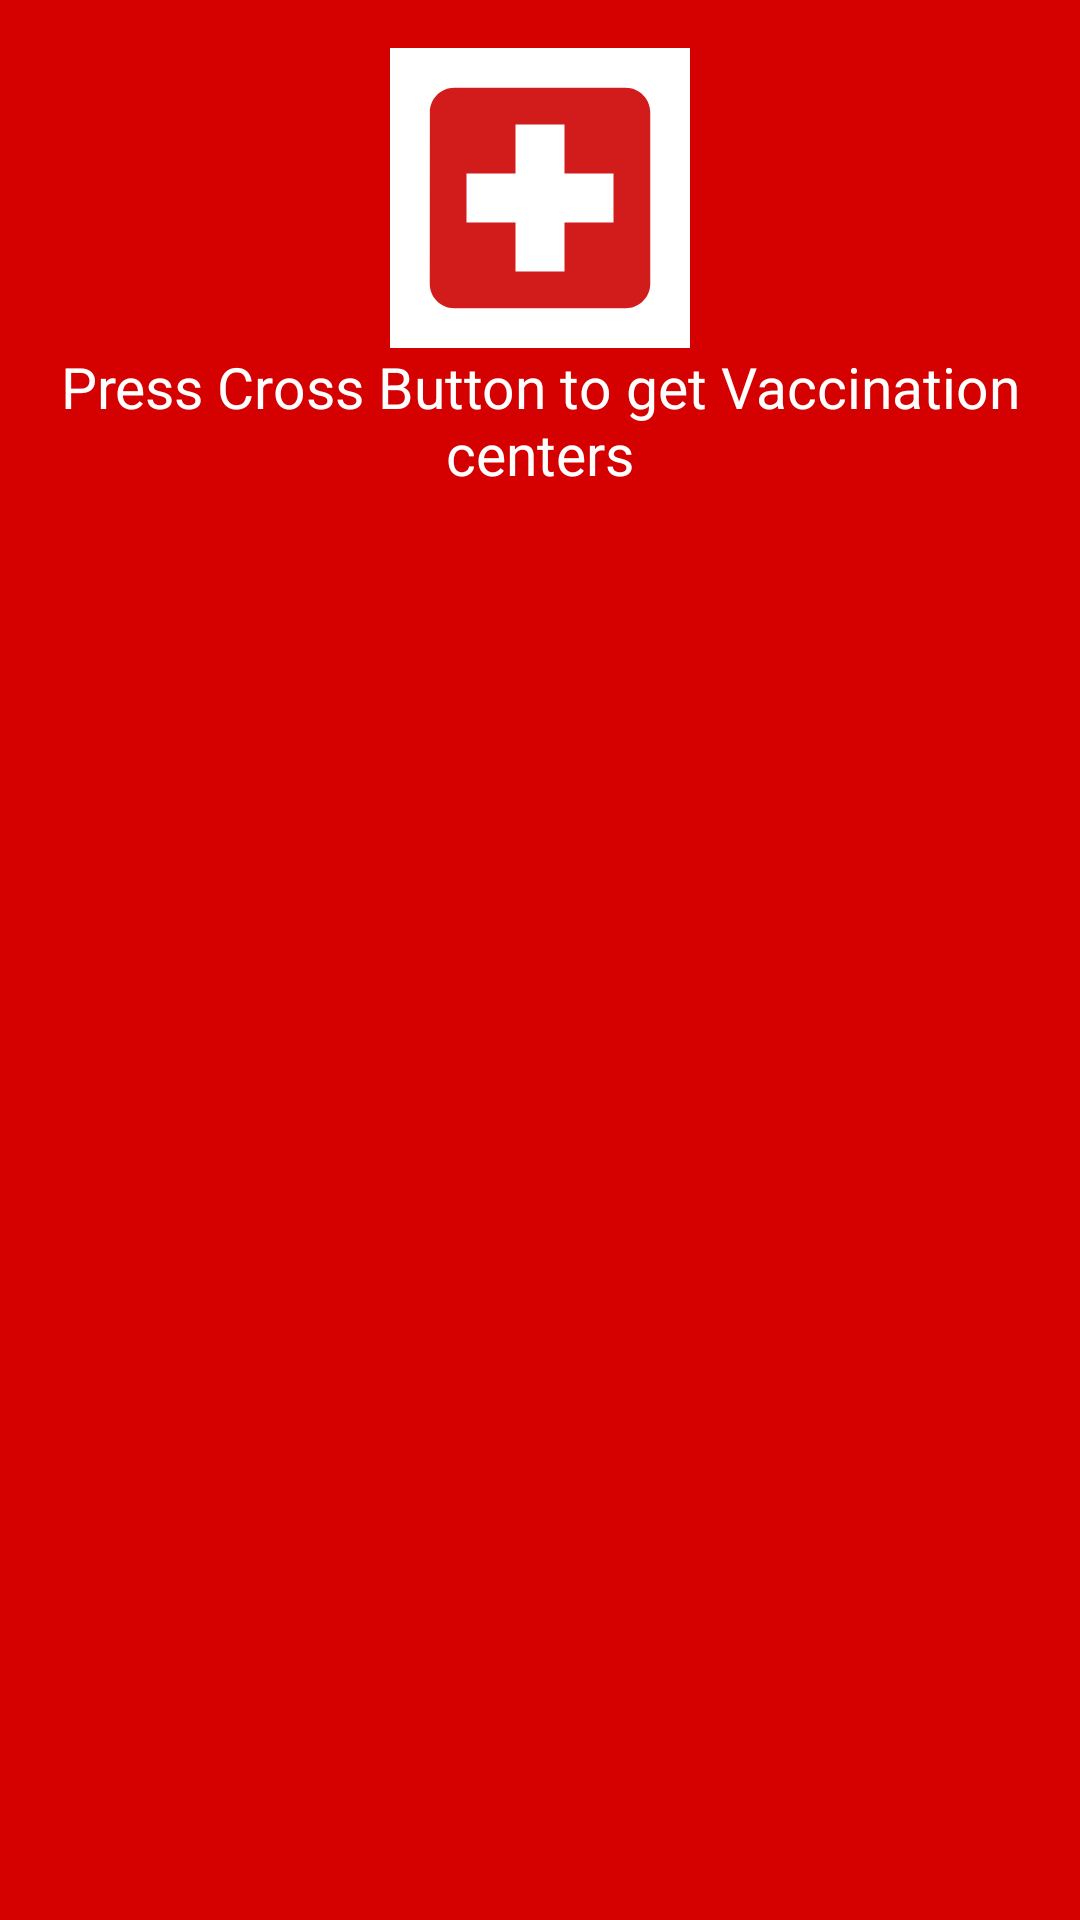

Point at icon controls on the screen. Image size 1080w x 1920h, points as (x,y).
hospital: (540,198)
